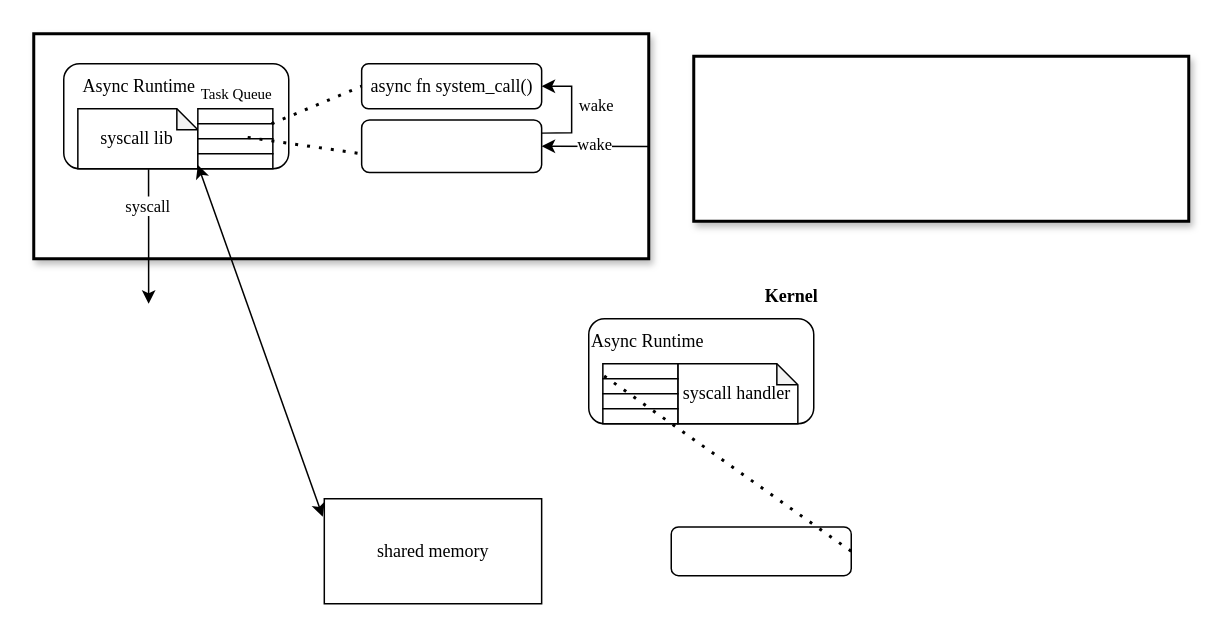
This 1224x630 diagram has some shape labels left out. Each missing label, with the centre of its shape:
"async fn reply_dispatcher(buf)" goes at (x=451, y=145).
"async fn req_ dispatcher (buf)" goes at (x=760, y=550).
